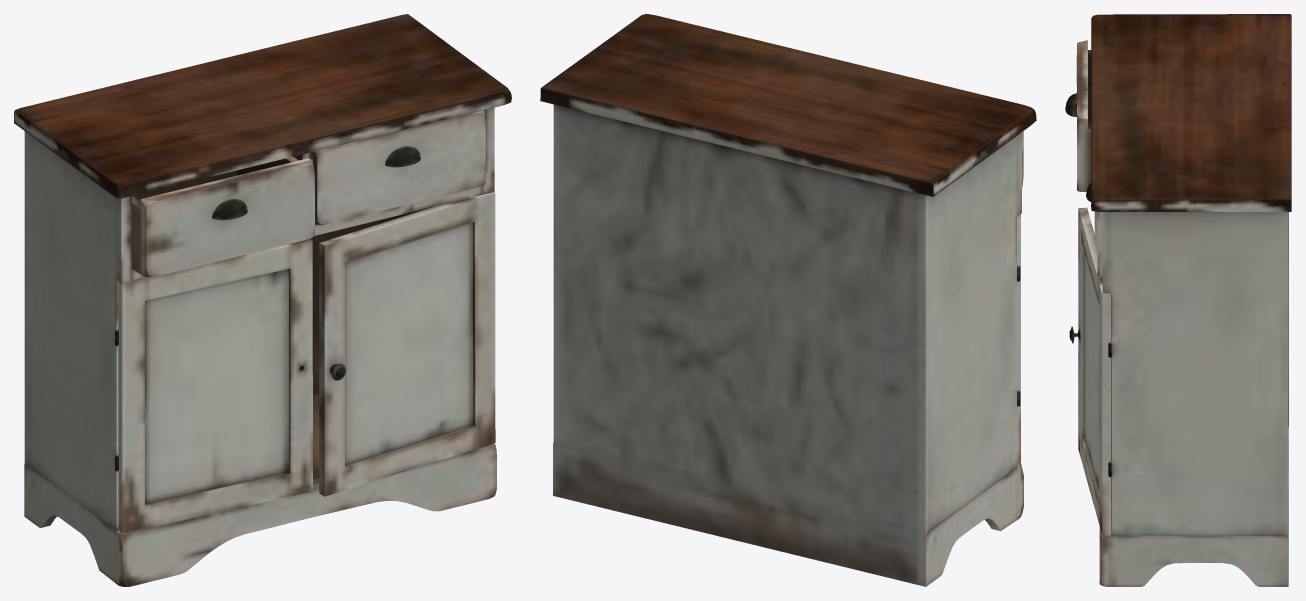
The picture shows the model from 3 angles, left to right: view 1: azimuth 30°, elevation 25°; view 2: azimuth 150°, elevation 25°; view 3: azimuth 270°, elevation 25°; orthographic projection. The views are drawn at different scales.
Parts seen in each view (by area): view 1: painted_wooden_cabinet, painted_wooden_cabinet_door_01, painted_wooden_cabinet_door_02, painted_wooden_cabinet_drawer_01, painted_wooden_cabinet_drawer_02; view 2: painted_wooden_cabinet, painted_wooden_cabinet_door_01; view 3: painted_wooden_cabinet, painted_wooden_cabinet_door_02, painted_wooden_cabinet_drawer_01, painted_wooden_cabinet_drawer_02.
Part boxes in pixels (<box>): painted_wooden_cabinet: <box>14,14,511,586</box>; painted_wooden_cabinet_door_01: <box>118,238,312,533</box>; painted_wooden_cabinet_door_02: <box>319,192,495,496</box>; painted_wooden_cabinet_drawer_01: <box>132,156,314,277</box>; painted_wooden_cabinet_drawer_02: <box>313,110,485,224</box>; painted_wooden_cabinet: <box>540,14,1036,586</box>; painted_wooden_cabinet_door_01: <box>1017,214,1020,465</box>; painted_wooden_cabinet: <box>1091,14,1291,586</box>; painted_wooden_cabinet_door_02: <box>1069,207,1110,535</box>; painted_wooden_cabinet_drawer_01: <box>1065,40,1091,191</box>; painted_wooden_cabinet_drawer_02: <box>1086,183,1102,277</box>.
Bounding box in the file's own units: 1.19 × 1.18 × 0.6166.
1 material, 1 textured.
